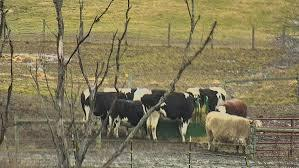cow: (140, 90, 197, 141), (82, 87, 152, 121), (203, 111, 250, 153), (85, 91, 127, 128), (107, 99, 145, 139), (187, 87, 226, 112), (222, 99, 247, 118)
